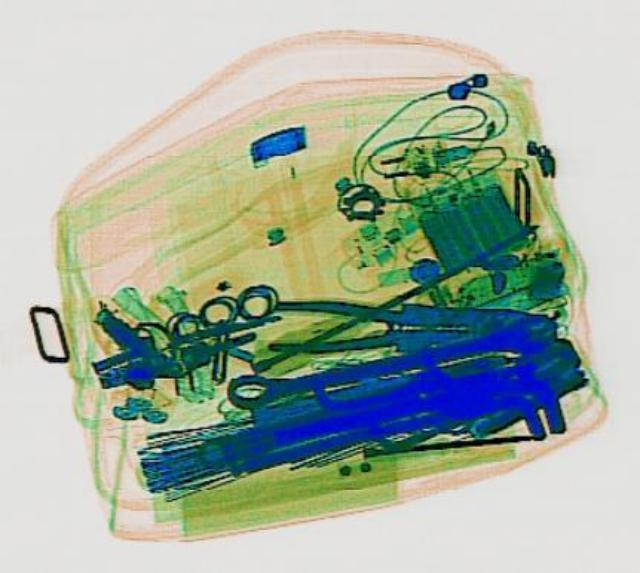Pliers: (266, 297, 554, 350)
Wrench: (219, 313, 555, 409)
